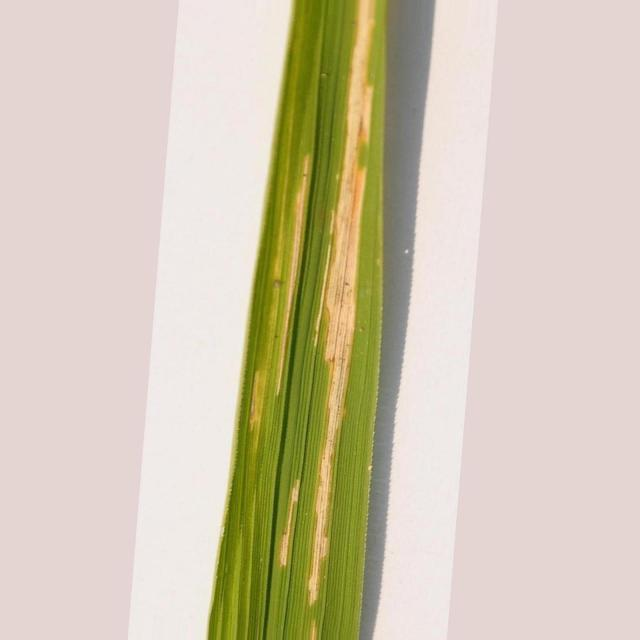Bacterial_Leaf_Blight: (309, 0, 376, 605), (276, 155, 310, 396), (346, 0, 375, 141), (278, 479, 300, 566), (251, 371, 260, 417), (309, 620, 318, 639), (250, 420, 255, 427)
